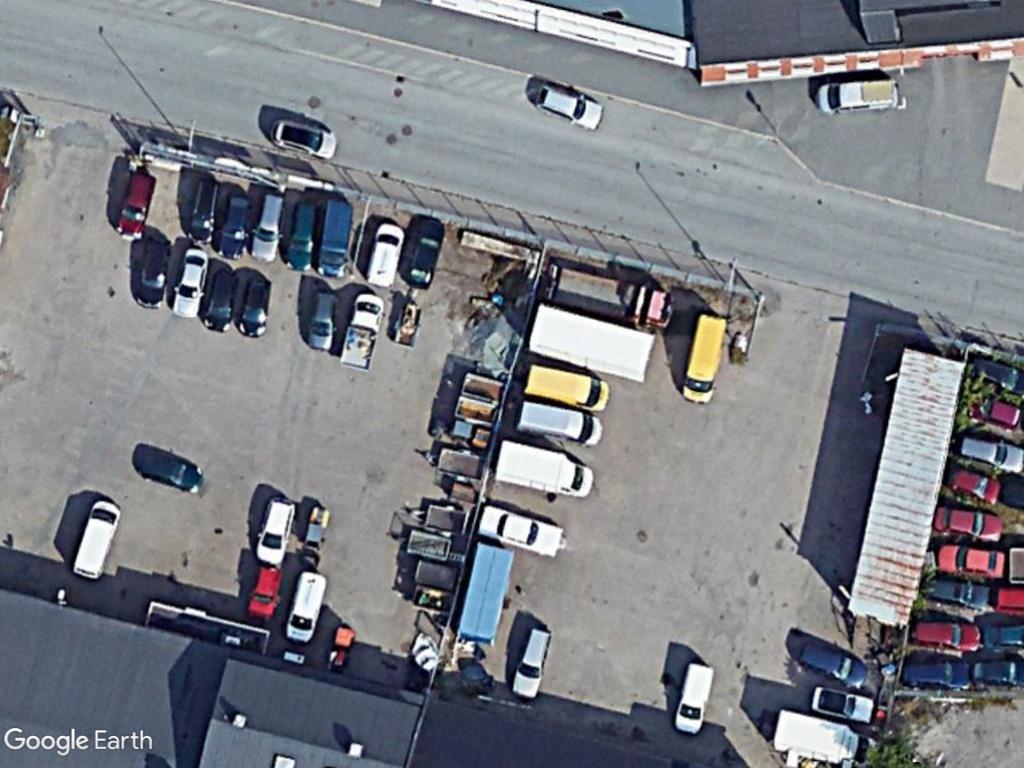car: (475, 501, 570, 562), (796, 637, 871, 693), (533, 79, 607, 135), (251, 491, 300, 567), (401, 216, 450, 291), (114, 167, 162, 242), (266, 115, 342, 162), (509, 625, 555, 701), (951, 431, 1024, 478), (807, 680, 878, 728), (931, 503, 1008, 547), (136, 449, 208, 496), (246, 187, 289, 265), (184, 172, 228, 248), (170, 243, 213, 319), (905, 615, 986, 655), (899, 651, 976, 693), (241, 558, 287, 628), (933, 540, 1010, 579), (284, 196, 324, 271), (215, 188, 256, 261), (135, 236, 175, 310), (303, 284, 344, 352), (201, 263, 239, 336), (237, 271, 274, 343)
truck: (488, 435, 597, 503)
van: (676, 309, 733, 408), (520, 359, 615, 416), (507, 399, 606, 449), (68, 496, 125, 582), (336, 289, 387, 373), (280, 568, 332, 645), (313, 196, 360, 281), (812, 77, 906, 117), (671, 660, 719, 737), (362, 217, 405, 291)
